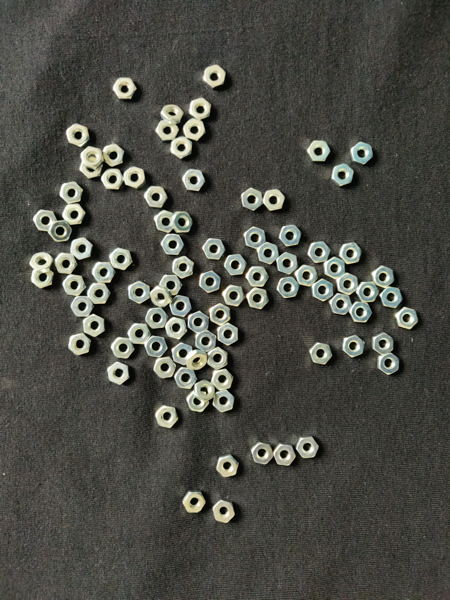nut: (202, 65, 227, 89), (66, 123, 90, 148), (81, 146, 105, 170), (48, 220, 73, 243), (113, 77, 137, 100), (350, 142, 374, 165), (156, 120, 180, 143), (109, 248, 133, 271), (155, 406, 179, 429), (213, 500, 236, 524), (331, 164, 354, 187), (183, 169, 206, 192), (257, 242, 280, 265), (70, 237, 93, 260), (247, 287, 270, 310), (329, 293, 352, 316), (372, 266, 395, 289), (397, 307, 420, 330), (343, 335, 366, 358), (55, 252, 78, 275), (170, 295, 193, 318), (165, 317, 188, 340), (83, 314, 106, 337), (296, 436, 319, 459), (307, 140, 331, 162), (101, 168, 125, 190), (62, 203, 86, 225), (145, 186, 169, 208), (277, 252, 299, 276), (339, 243, 363, 265), (309, 343, 333, 365), (128, 281, 150, 305), (111, 337, 135, 359), (153, 357, 177, 379), (211, 369, 235, 391), (33, 210, 58, 231), (159, 275, 184, 296), (184, 118, 206, 141), (171, 136, 193, 159), (103, 144, 125, 167), (124, 166, 146, 189), (60, 182, 83, 204), (161, 234, 184, 256), (279, 225, 302, 247), (244, 227, 266, 250), (308, 241, 331, 263), (324, 257, 346, 280), (203, 238, 226, 260), (277, 277, 300, 299), (312, 279, 334, 302), (380, 287, 403, 309), (373, 333, 395, 356), (377, 353, 400, 375), (223, 285, 246, 307), (63, 275, 86, 297), (145, 308, 168, 330), (69, 333, 91, 356), (128, 323, 151, 345), (145, 336, 168, 358), (108, 362, 130, 385), (171, 343, 193, 366), (194, 379, 216, 402), (274, 444, 297, 466), (217, 455, 239, 478), (183, 491, 206, 513), (356, 282, 380, 303), (30, 253, 54, 274), (87, 283, 111, 304), (186, 391, 210, 412), (190, 98, 212, 120), (263, 189, 285, 211), (296, 265, 318, 287), (337, 273, 359, 295), (225, 254, 247, 276), (252, 443, 274, 465), (242, 188, 263, 211), (350, 302, 373, 323), (173, 256, 194, 279), (200, 271, 221, 294), (150, 286, 173, 307), (218, 323, 239, 346), (207, 347, 228, 370), (175, 368, 198, 389), (214, 390, 235, 413), (92, 263, 116, 283), (80, 157, 102, 178), (171, 212, 193, 233), (210, 304, 231, 326), (196, 330, 217, 352), (186, 350, 208, 371), (155, 210, 175, 233), (246, 267, 269, 287), (71, 297, 94, 317), (189, 311, 209, 334), (161, 105, 184, 124), (31, 270, 53, 289)
